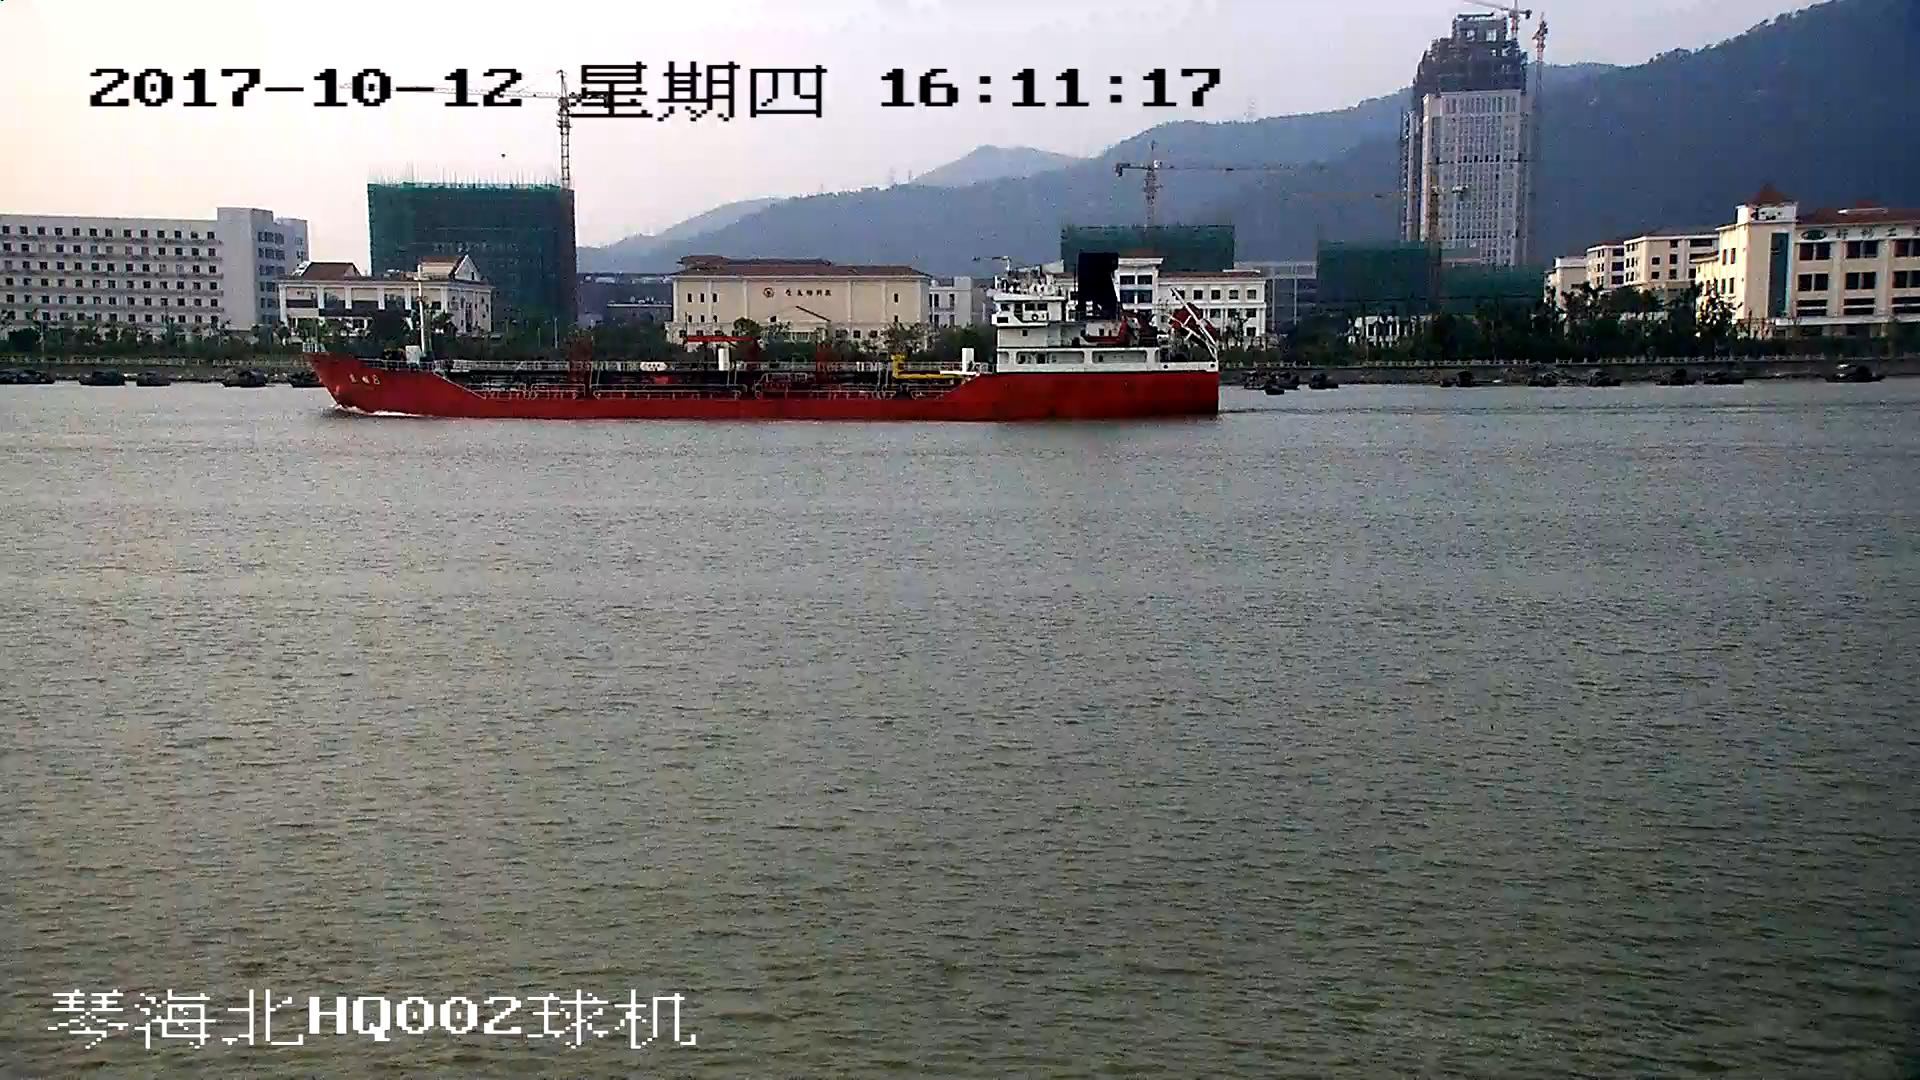general cargo ship: (297, 259, 1222, 421)
